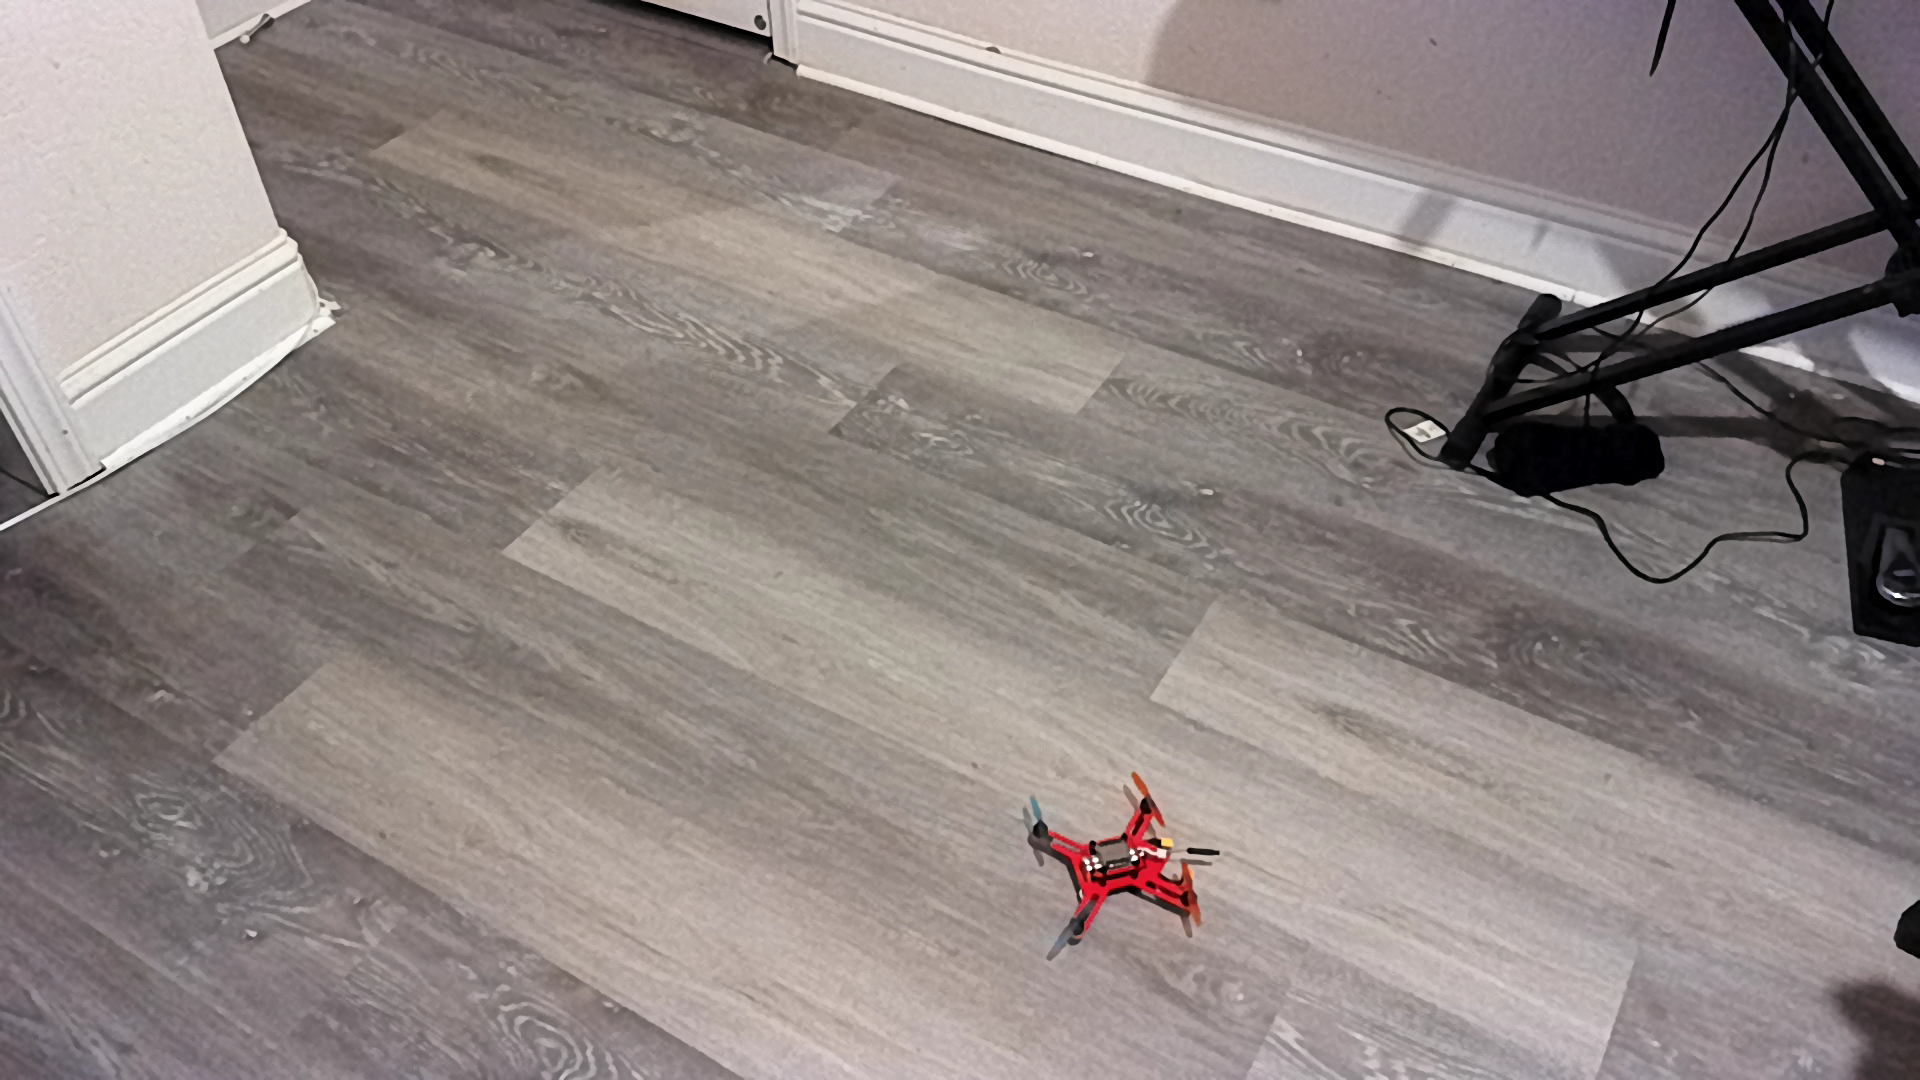drone: (1011, 770, 1249, 969)
